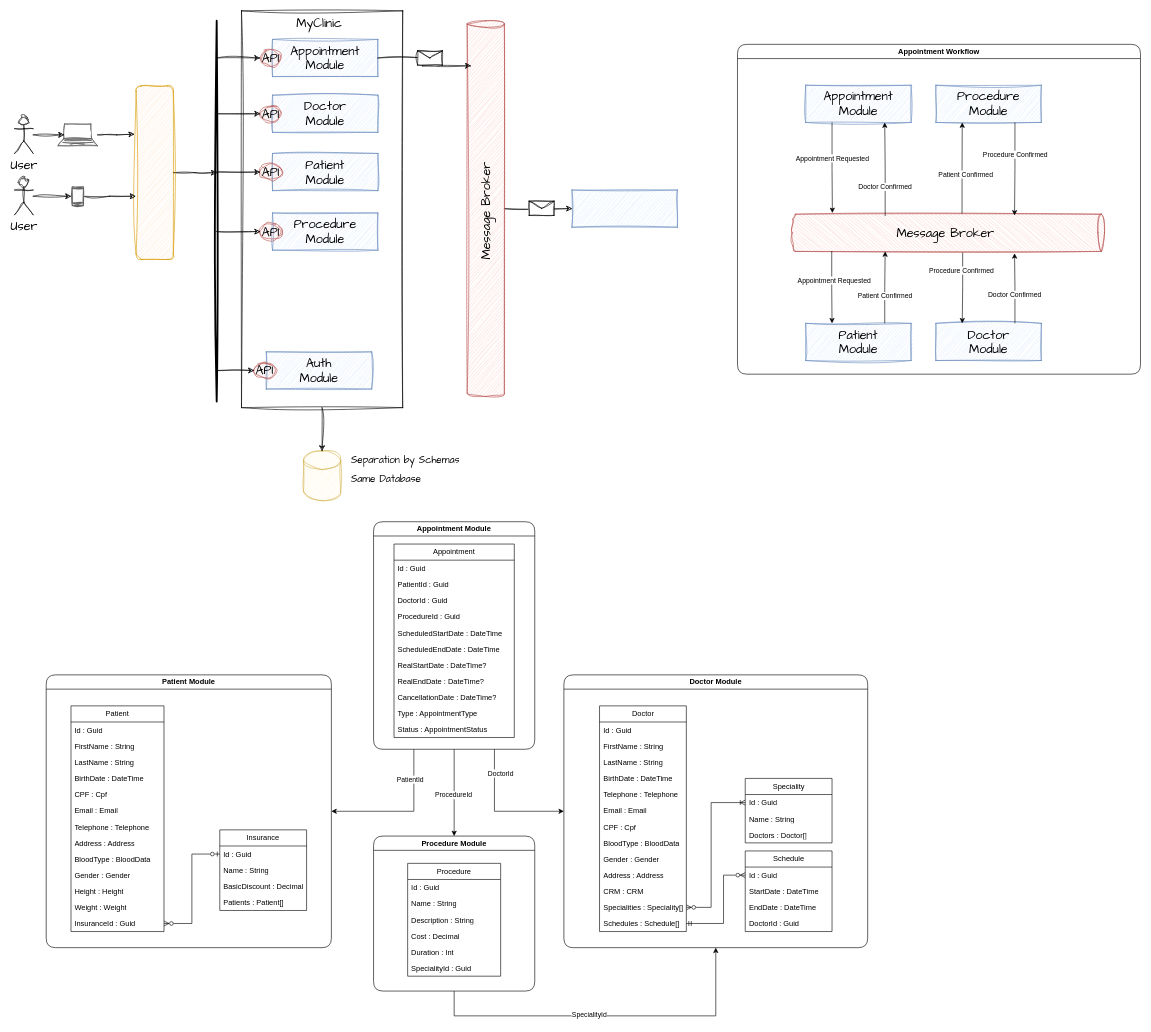
This 1151x1032 diagram has some shape labels left out. The shapes that lost their labels are listed below. From the top down, each one's centre as x and y in pixels, then its label:
At point (154, 172): "API Gateway".
At point (624, 208): "Notification Module".
At point (322, 475): "SQL Server".
